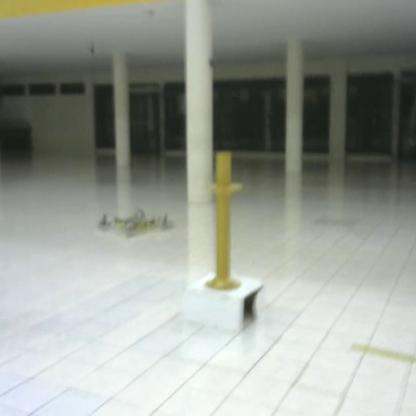pole: (202, 150, 245, 303)
